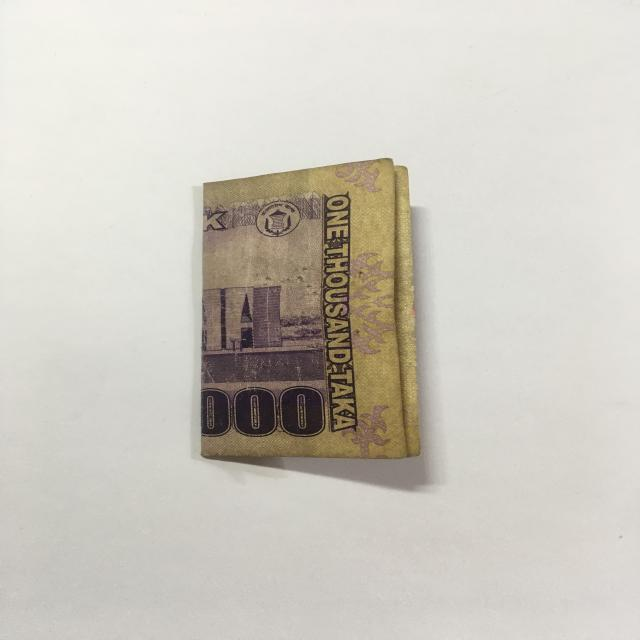Taka: (187, 148, 435, 468)
